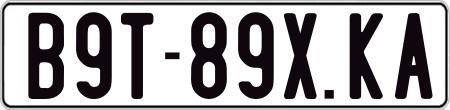8: (188, 10, 226, 97)
9: (237, 9, 278, 102), (73, 11, 111, 104)
A: (394, 11, 434, 103)
B: (26, 13, 64, 105)
K: (348, 12, 382, 103)
T: (118, 10, 154, 102)
X: (283, 12, 316, 102)
